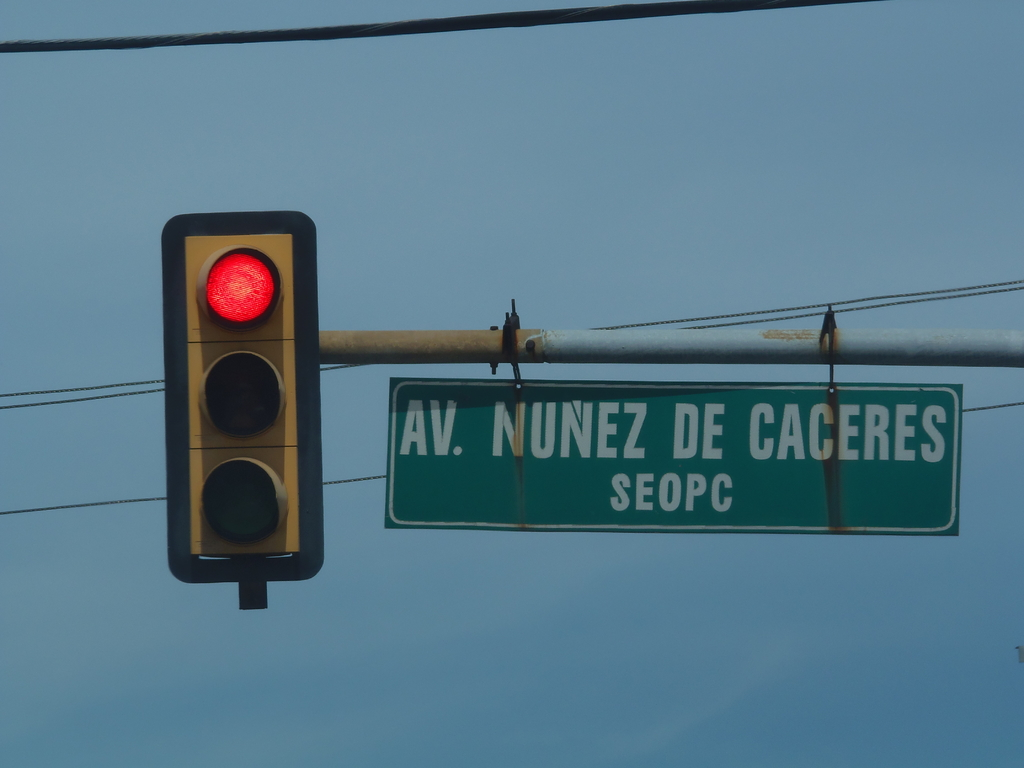red_light: (176, 223, 302, 553)
